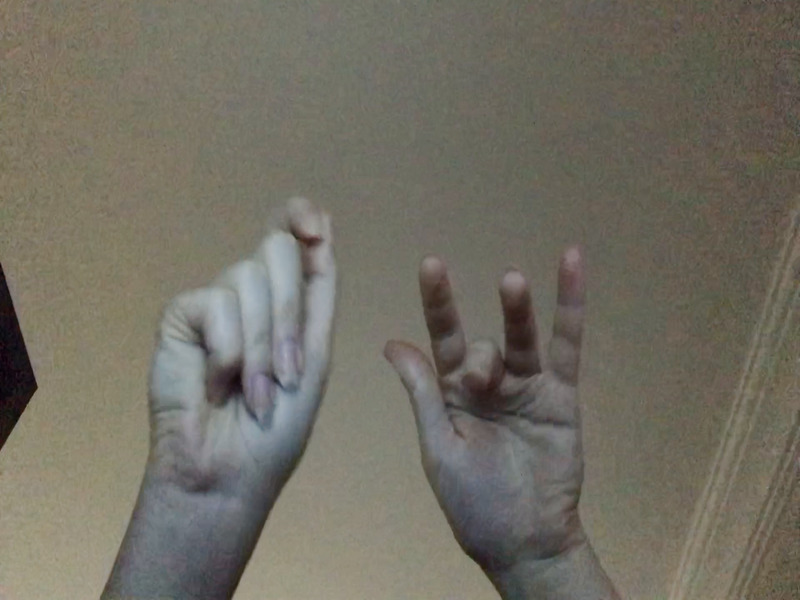hand: (383, 245, 595, 544), (135, 197, 342, 494)
